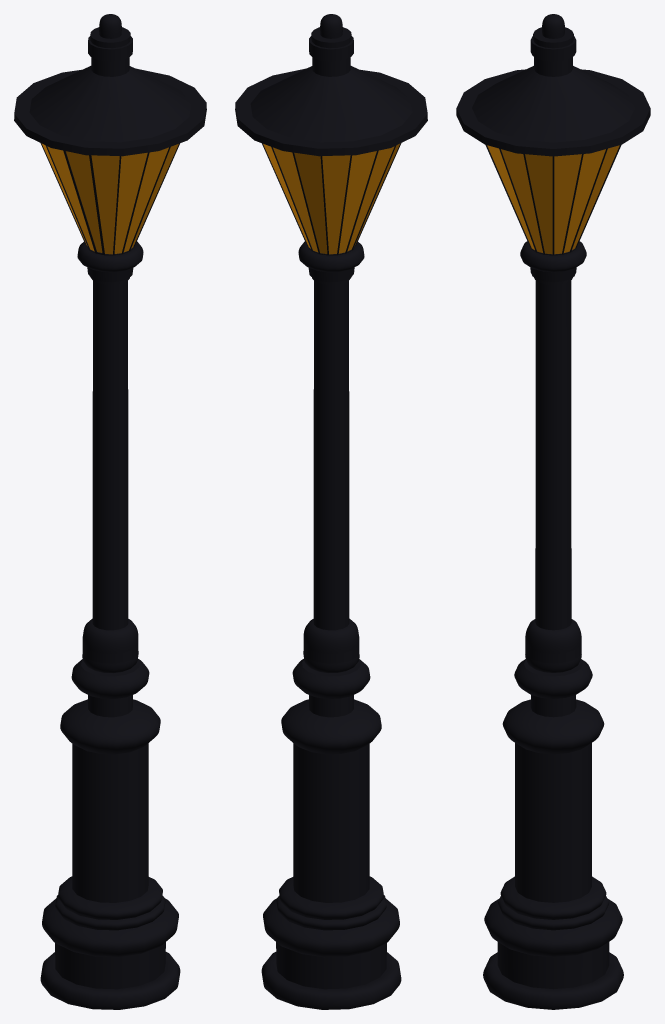
File: Strassenlaternen.FBX
3 renders of one model, left to right at view 1: azimuth 30°, elevation 25°; view 2: azimuth 150°, elevation 25°; view 3: azimuth 270°, elevation 25°, orthographic.
Visible parts, largest first — view 1: Strassenlaterne_mattblau; view 2: Strassenlaterne_mattblau; view 3: Strassenlaterne_mattblau.
Part boxes in pixels (x1=…): Strassenlaterne_mattblau: x1=14, y1=14, x2=206, y2=1009; Strassenlaterne_mattblau: x1=235, y1=14, x2=427, y2=1009; Strassenlaterne_mattblau: x1=456, y1=14, x2=650, y2=1009.
Bounding box in the file's own units: 23.66 × 23.66 × 130.
